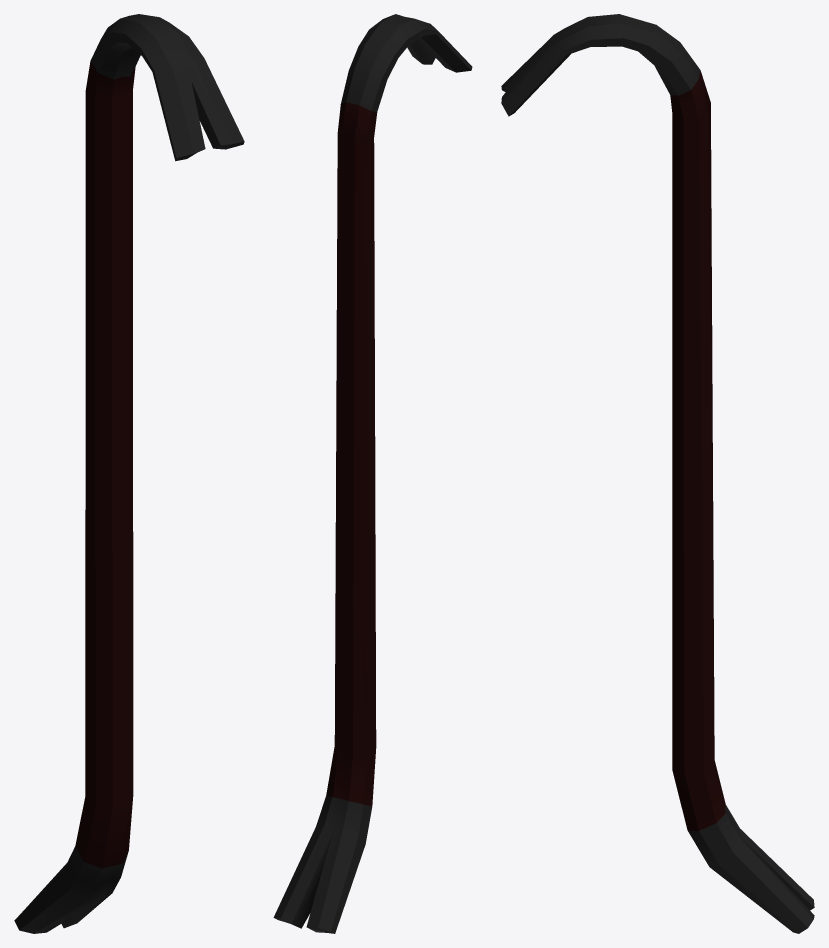
The model's file is crowbar.fbx.
3 views of the same model, side by side, from view 1: azimuth 30°, elevation 25°; view 2: azimuth 150°, elevation 25°; view 3: azimuth 270°, elevation 25° (orthographic). The views are drawn at different scales.
Parts seen in each view (by area): view 1: pCube2; view 2: pCube2; view 3: pCube2.
Boxes of the visible parts, <box> form: pCube2: <box>14,14,244,933</box>; pCube2: <box>273,14,472,933</box>; pCube2: <box>501,14,814,933</box>.
Size of the model in its own units: 2.48 by 33.98 by 10.65.
